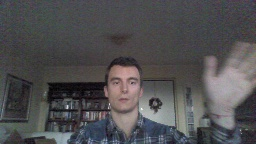Mano_aperta: (201, 37, 256, 108)
